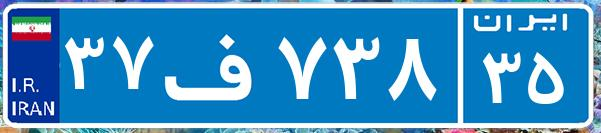3: (330, 28, 385, 110), (57, 26, 110, 107), (475, 38, 525, 113)
5: (525, 38, 570, 115)
7: (273, 28, 330, 110), (110, 28, 158, 105)
8: (385, 28, 445, 110)
ف: (158, 15, 273, 115)
